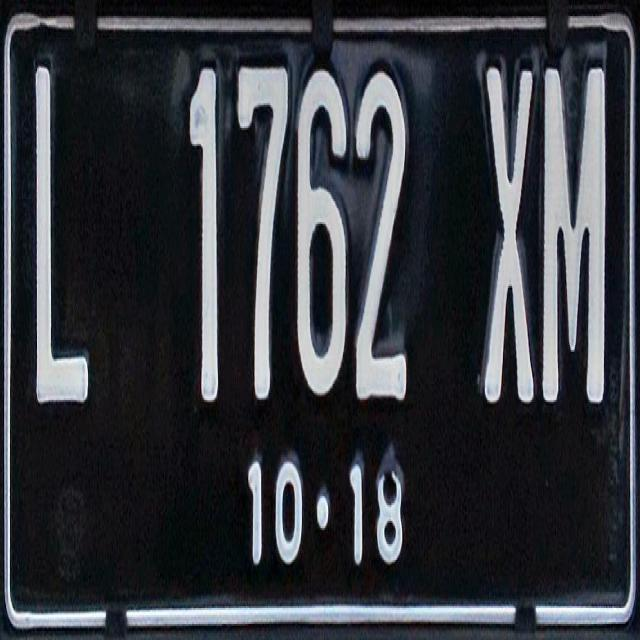1: (180, 42, 230, 416)
2: (351, 40, 417, 419)
6: (291, 39, 351, 413)
7: (231, 44, 291, 414)
L: (23, 49, 98, 422)
M: (540, 40, 610, 431)
X: (476, 31, 540, 431)
